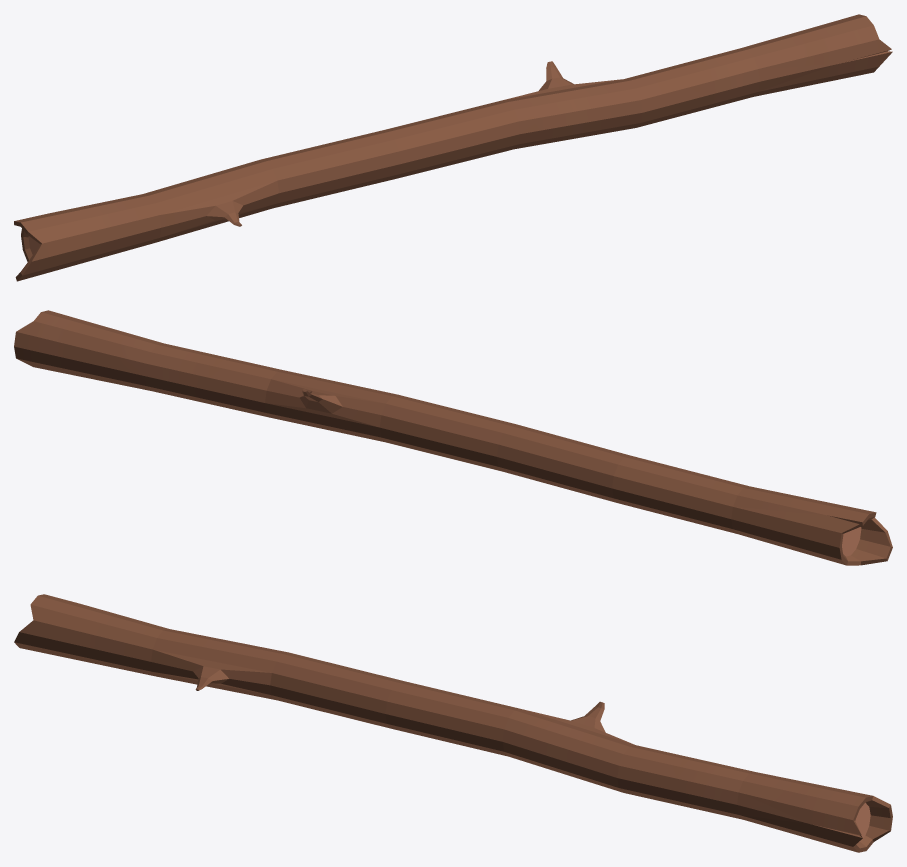
File: mod_bg_RondinMoyenLong.fbx
The picture shows the model from 3 angles, top to bottom: view 1: azimuth 30°, elevation 25°; view 2: azimuth 150°, elevation 25°; view 3: azimuth 330°, elevation 25°; orthographic projection. The views are drawn at different scales.
Parts seen in each view (by area): view 1: RondinMoyenLong; view 2: RondinMoyenLong; view 3: RondinMoyenLong.
Part boxes in pixels (<box>): RondinMoyenLong: <box>14,14,892,281</box>; RondinMoyenLong: <box>14,310,892,565</box>; RondinMoyenLong: <box>14,594,892,852</box>.
Size of the model in its own units: 400 by 28.03 by 41.76.
